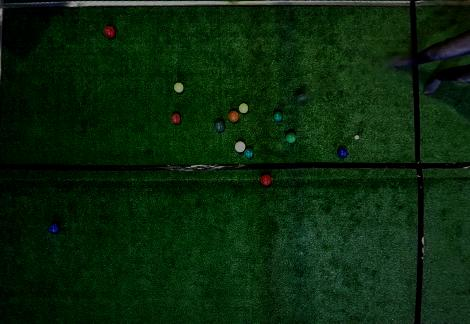blue: (48, 222, 60, 234), (337, 147, 347, 158)
green: (214, 119, 225, 132), (295, 92, 307, 103), (285, 132, 296, 143), (244, 148, 254, 159), (273, 111, 283, 122)
red: (234, 140, 246, 153), (260, 174, 272, 186), (104, 26, 116, 38), (228, 110, 239, 122), (171, 113, 181, 124)
vline: (413, 67, 469, 323), (410, 0, 469, 55), (0, 0, 7, 323)
white: (354, 135, 359, 140)
yellow: (173, 82, 184, 94), (238, 103, 248, 113)
